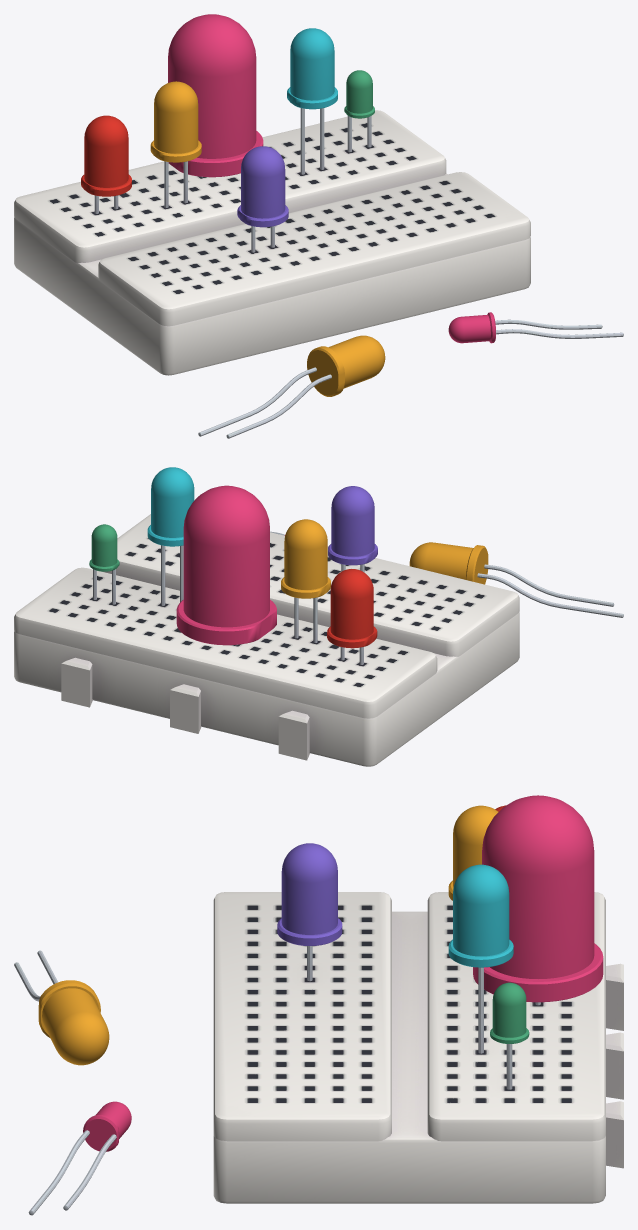
File: led.obj
3 renders of one model, top to bottom at view 1: azimuth 30°, elevation 25°; view 2: azimuth 150°, elevation 25°; view 3: azimuth 270°, elevation 25°, orthographic. The views are drawn at different scales.
Parts seen in each view (by area): view 1: led_body, led_lenses_rgb; view 2: led_body, led_lenses_rgb; view 3: led_body, led_lenses_rgb.
Boxes of the visible parts, x1,y1,x2,y2 form: led_body: [14, 108, 623, 438]; led_lenses_rgb: [81, 14, 495, 396]; led_body: [14, 514, 623, 766]; led_lenses_rgb: [89, 467, 488, 648]; led_body: [14, 892, 623, 1215]; led_lenses_rgb: [38, 795, 603, 1151].
Size of the model in its own units: 0.055 by 0.0279 by 0.0543.
9 materials, 1 textured.
